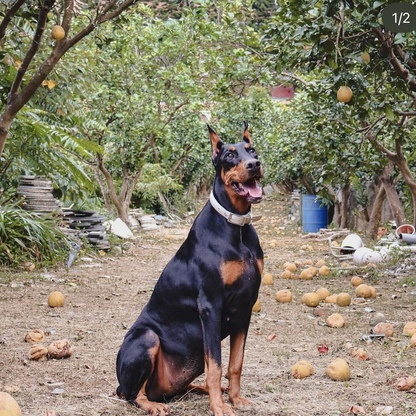doberman: (106, 121, 266, 416)
